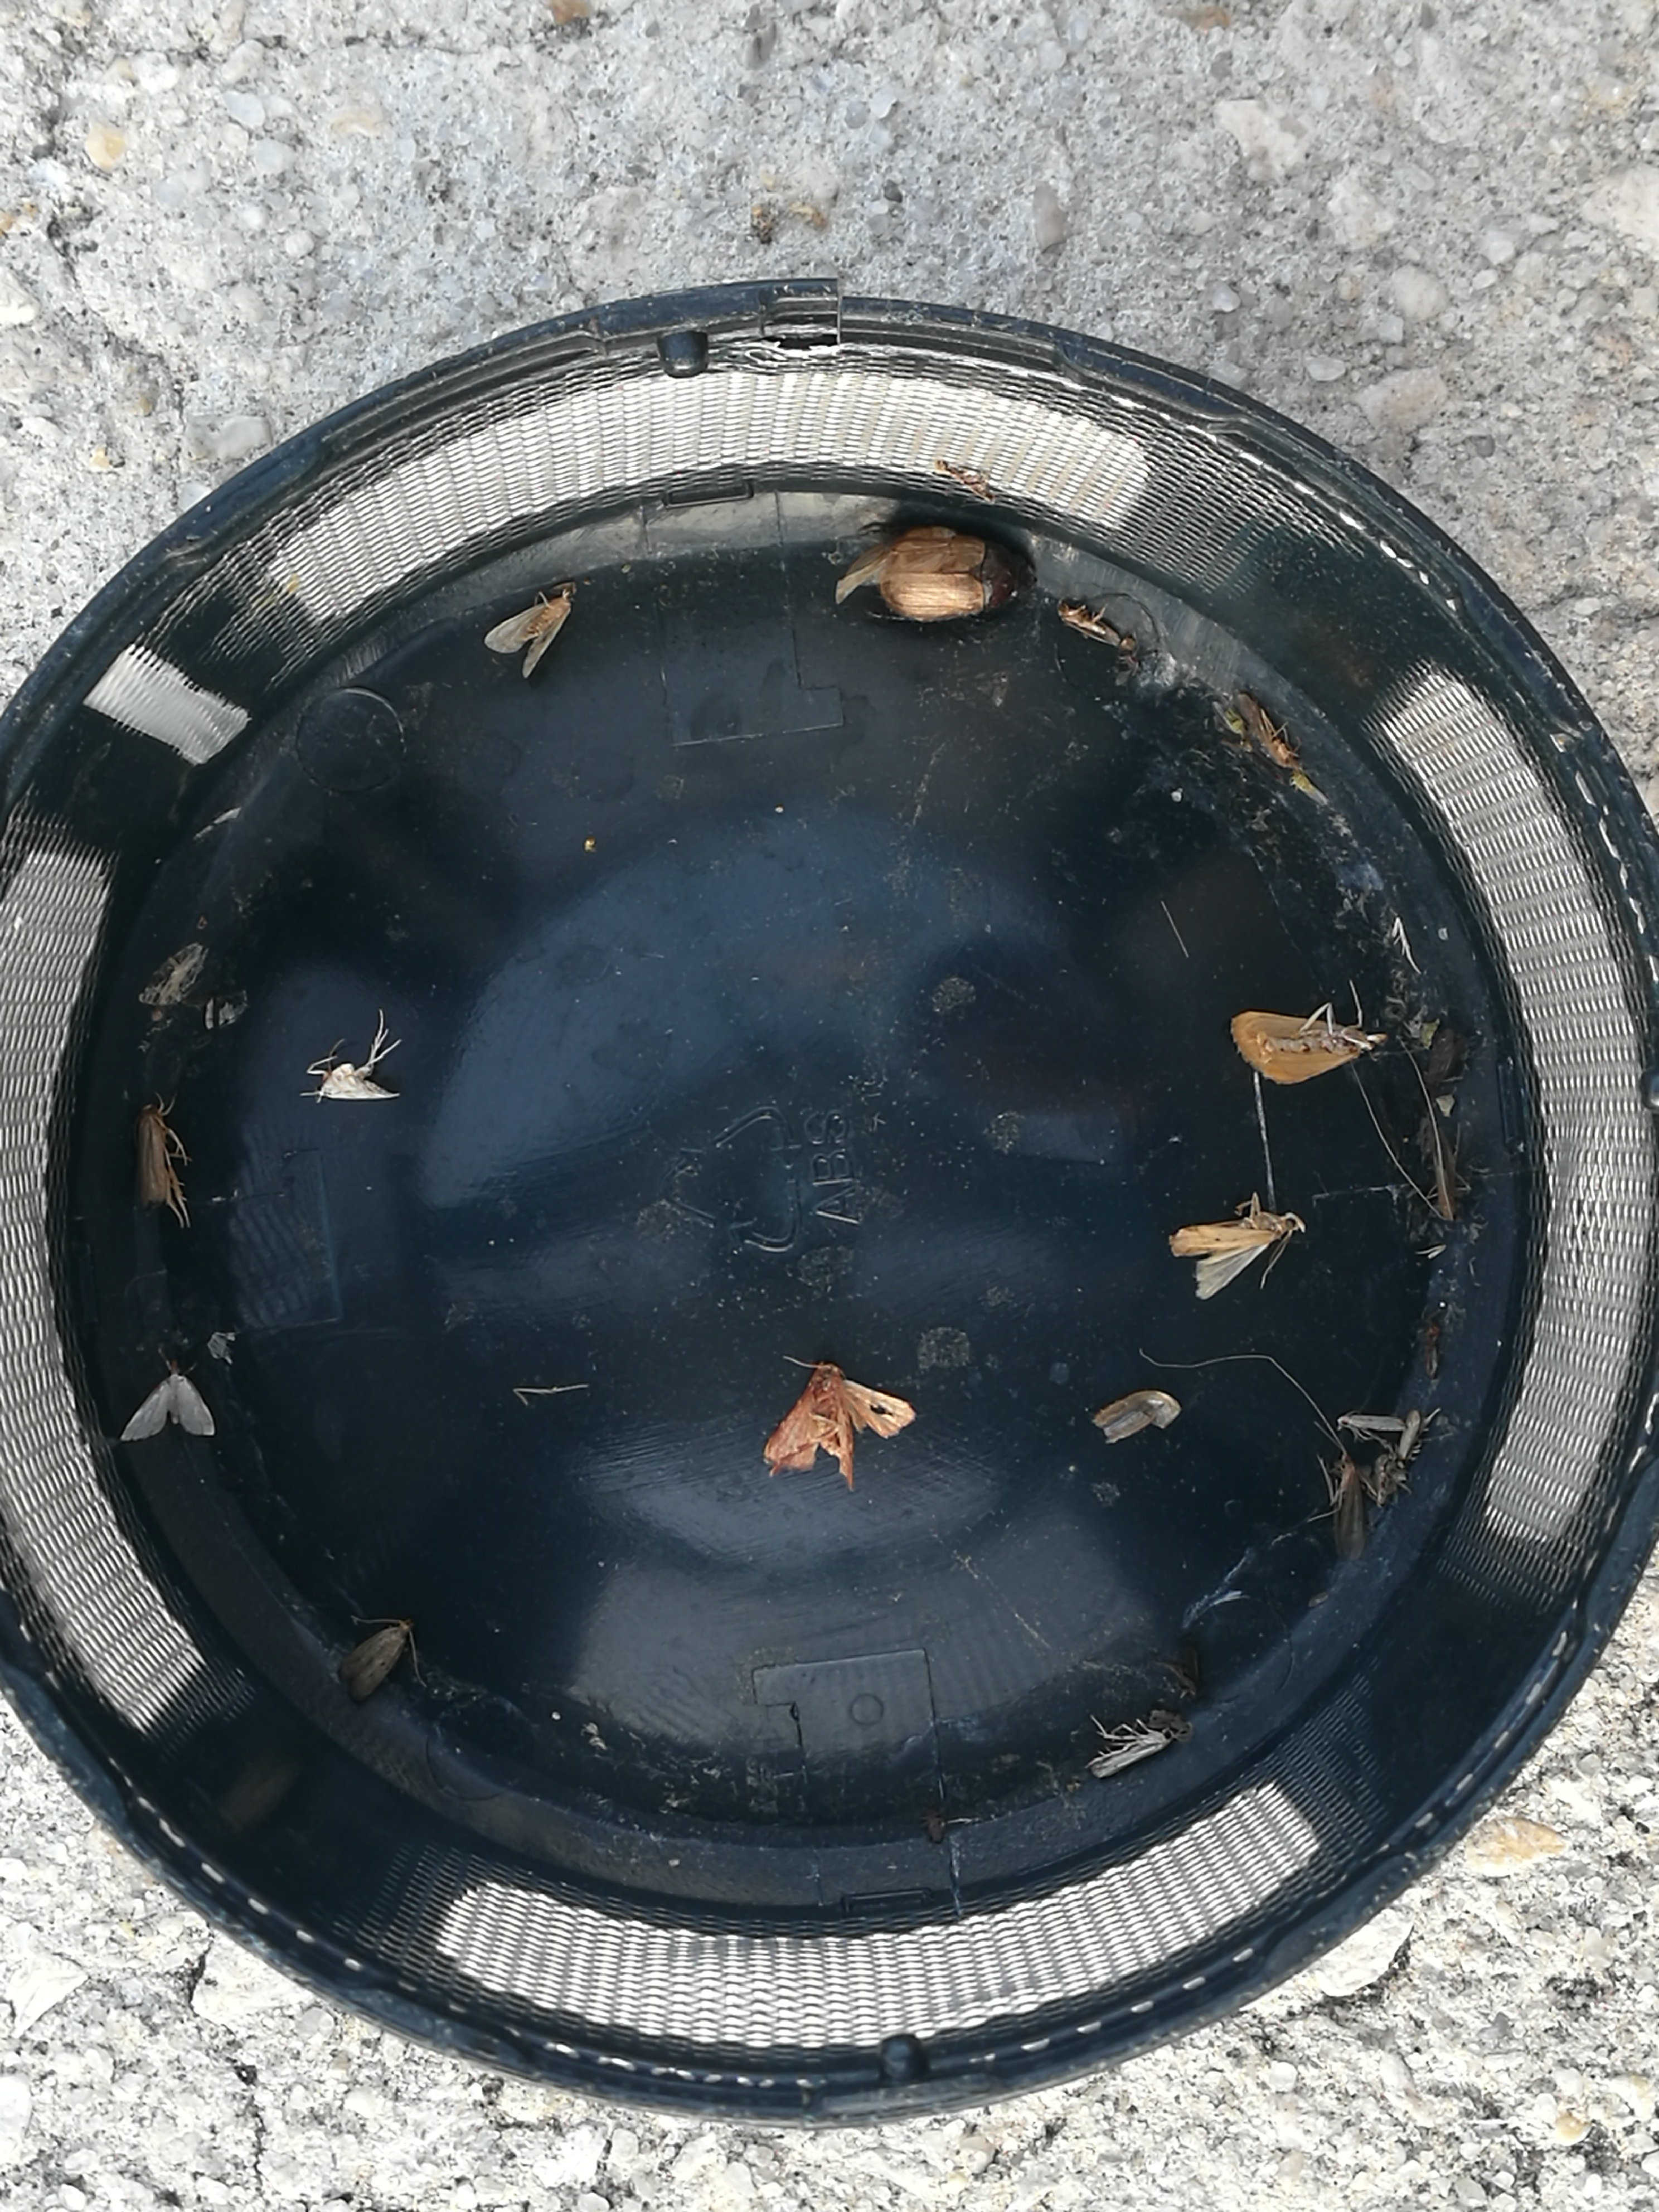beetle: (878, 535, 1035, 620)
mosquito: (1239, 695, 1298, 770), (1091, 1726, 1175, 1777), (1333, 1458, 1364, 1561), (138, 1104, 169, 1205), (1056, 603, 1119, 643), (1436, 1134, 1457, 1221), (1338, 1414, 1403, 1435), (1398, 1411, 1417, 1463)
moth: (767, 1360, 915, 1491), (1230, 1012, 1384, 1082), (1171, 1216, 1298, 1298), (484, 596, 570, 676), (122, 1376, 213, 1440), (342, 1622, 411, 1703), (317, 1061, 396, 1099)
